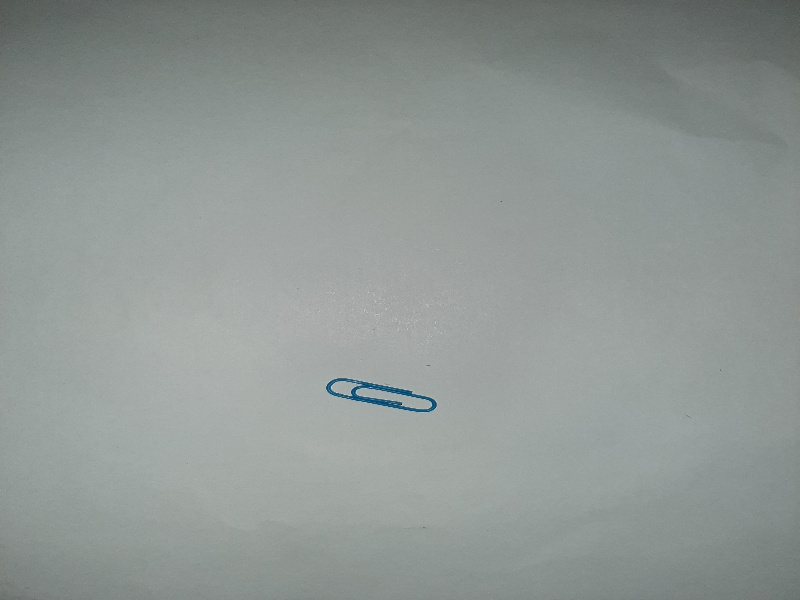Small Jumpclip: (323, 376, 438, 420)
